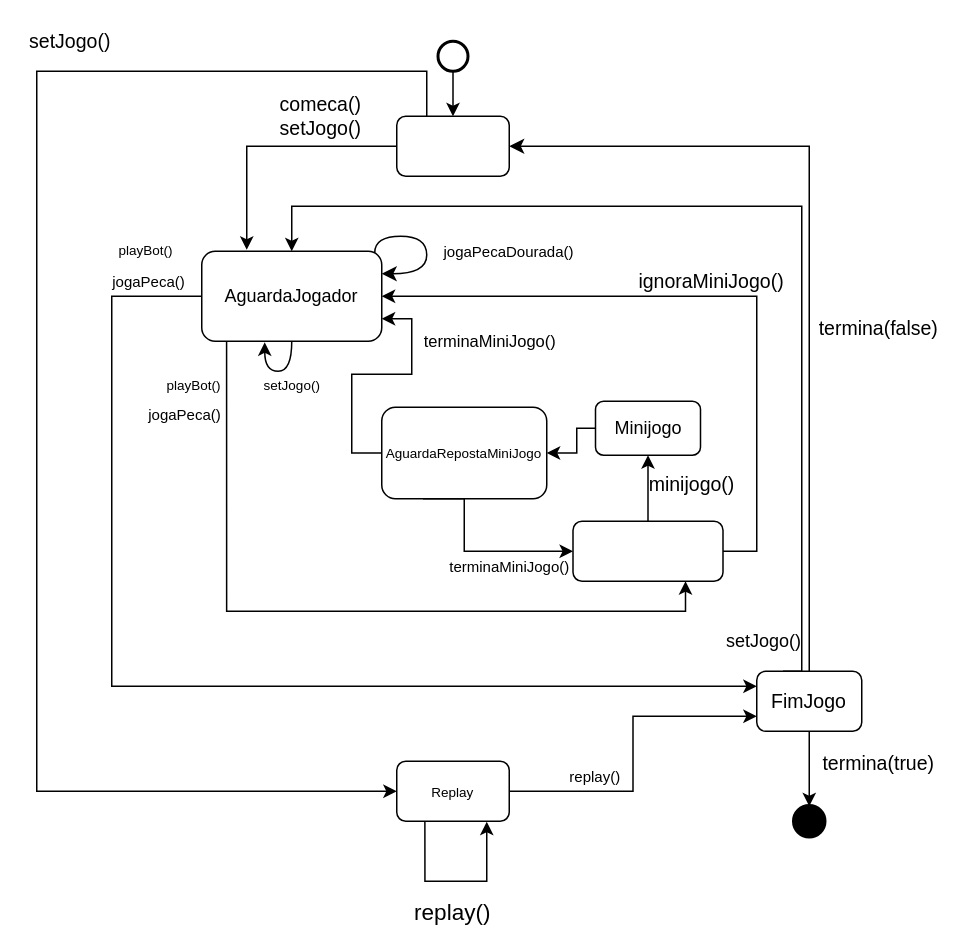
The diagram is 963 pixels wide and 951 high, and some of its shapes have lost their labels. Here are the shapes that lost their labels. From the top down, the box of each, then its label:
(395, 115, 509, 176): AguardaInicio
(572, 520, 723, 581): AguardaMiniJogo
